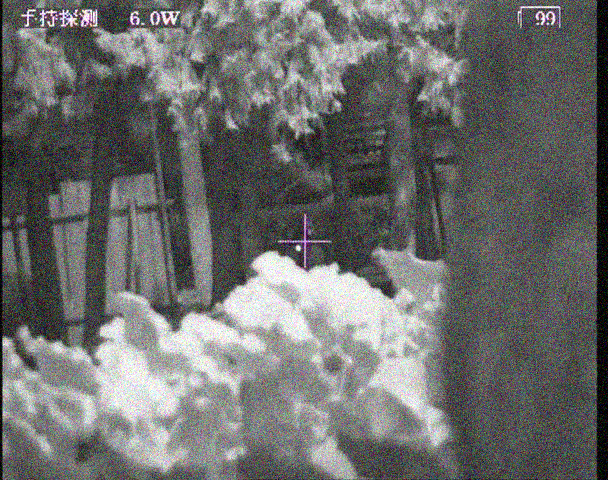my: (294, 244, 303, 254)
